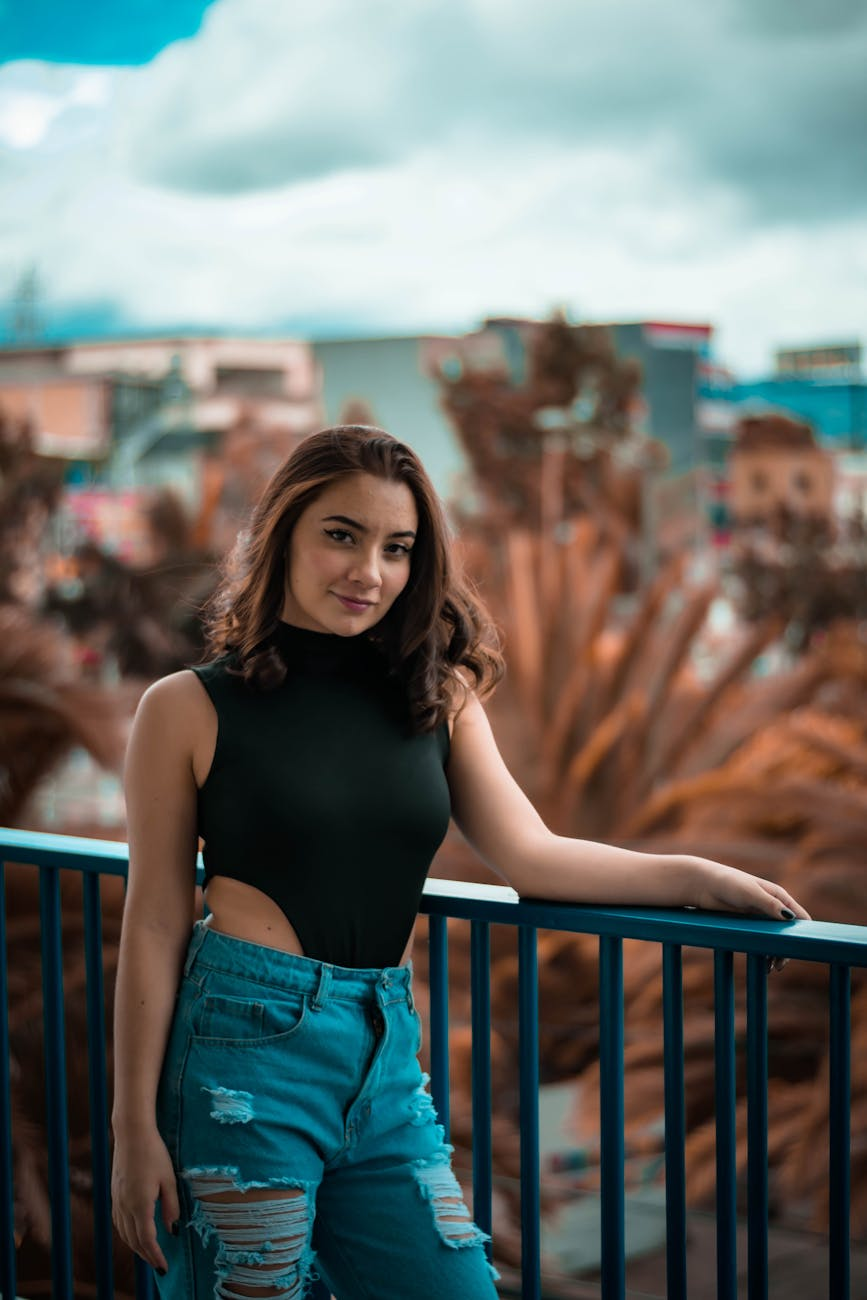ripped_jeans: (132, 936, 518, 1300)
sleeveless_top: (180, 645, 479, 967)
